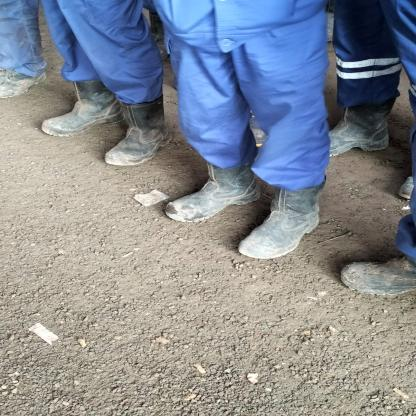bota: (237, 174, 329, 259), (166, 159, 265, 224), (44, 79, 127, 138), (104, 101, 176, 166), (325, 102, 394, 156), (0, 60, 49, 99)
